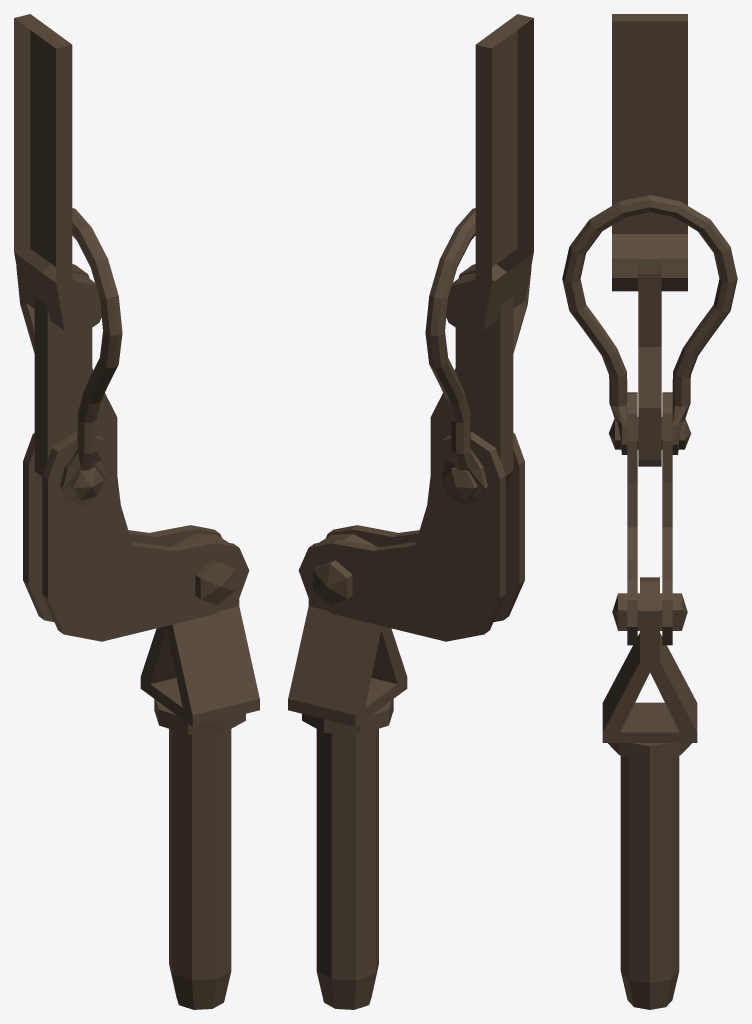
Rendered from wip_part3.glb.
3 views of the same model, side by side, from view 1: azimuth 30°, elevation 25°; view 2: azimuth 150°, elevation 25°; view 3: azimuth 270°, elevation 25° (orthographic). The views are drawn at different scales.
Parts seen in each view (by area): view 1: product-a5177ef5-0268-4a9a-b687-cad15da7f226-body, product-c4d0942a-fdba-40f2-9208-dc60a9db98b8-body, product-65088141-9640-410f-a4c3-0de42c1b00be-body, product-c7ffdc1f-bbed-4e79-a86b-8c7f4bc34649-body, product-e3ba0b7c-58d1-45ed-b68f-3114fbcde72a-body; view 2: product-a5177ef5-0268-4a9a-b687-cad15da7f226-body, product-c4d0942a-fdba-40f2-9208-dc60a9db98b8-body, product-65088141-9640-410f-a4c3-0de42c1b00be-body, product-c7ffdc1f-bbed-4e79-a86b-8c7f4bc34649-body, product-e3ba0b7c-58d1-45ed-b68f-3114fbcde72a-body; view 3: product-a5177ef5-0268-4a9a-b687-cad15da7f226-body, product-65088141-9640-410f-a4c3-0de42c1b00be-body, product-e3ba0b7c-58d1-45ed-b68f-3114fbcde72a-body, product-c4d0942a-fdba-40f2-9208-dc60a9db98b8-body, product-c7ffdc1f-bbed-4e79-a86b-8c7f4bc34649-body.
Part boxes in pixels (<box>): product-a5177ef5-0268-4a9a-b687-cad15da7f226-body: <box>140,533,259,1009</box>; product-c4d0942a-fdba-40f2-9208-dc60a9db98b8-body: <box>23,431,249,641</box>; product-65088141-9640-410f-a4c3-0de42c1b00be-body: <box>14,14,101,334</box>; product-c7ffdc1f-bbed-4e79-a86b-8c7f4bc34649-body: <box>34,264,117,483</box>; product-e3ba0b7c-58d1-45ed-b68f-3114fbcde72a-body: <box>16,208,122,505</box>; product-a5177ef5-0268-4a9a-b687-cad15da7f226-body: <box>288,533,407,1009</box>; product-c4d0942a-fdba-40f2-9208-dc60a9db98b8-body: <box>298,431,524,641</box>; product-65088141-9640-410f-a4c3-0de42c1b00be-body: <box>446,14,533,334</box>; product-c7ffdc1f-bbed-4e79-a86b-8c7f4bc34649-body: <box>430,264,513,483</box>; product-e3ba0b7c-58d1-45ed-b68f-3114fbcde72a-body: <box>425,208,531,505</box>; product-a5177ef5-0268-4a9a-b687-cad15da7f226-body: <box>602,577,697,1009</box>; product-65088141-9640-410f-a4c3-0de42c1b00be-body: <box>612,14,687,291</box>; product-e3ba0b7c-58d1-45ed-b68f-3114fbcde72a-body: <box>562,195,737,454</box>; product-c4d0942a-fdba-40f2-9208-dc60a9db98b8-body: <box>612,392,687,645</box>; product-c7ffdc1f-bbed-4e79-a86b-8c7f4bc34649-body: <box>638,242,661,466</box>.
Size of the model in its own units: 0.0957 by 0.45 by 0.0778.
